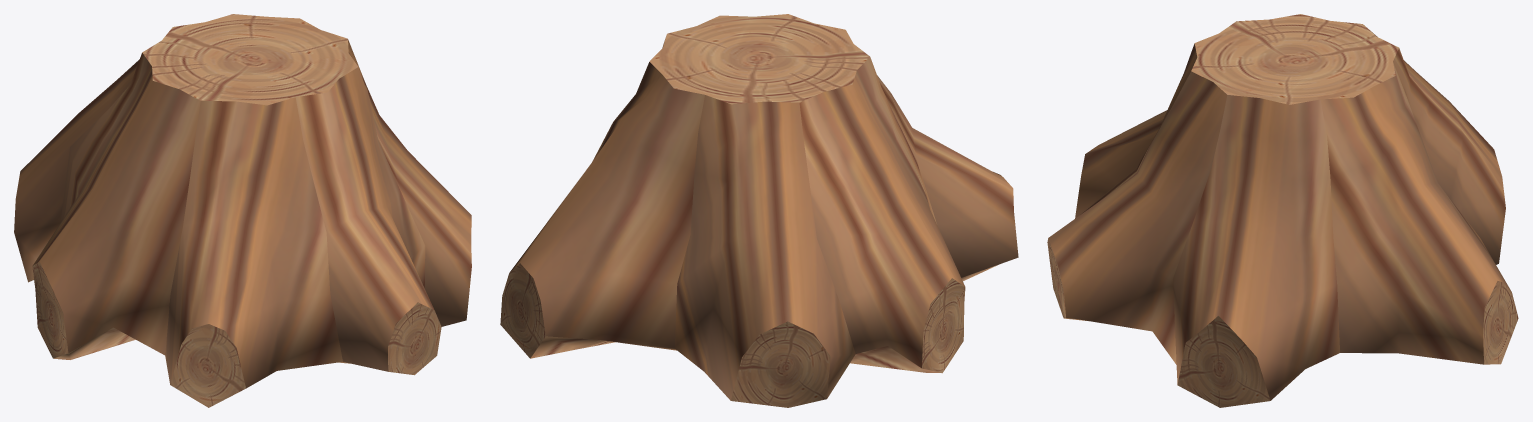
Rendered from p_mesh_hvs_pine_root01.fbx.
3 renders of one model, left to right at view 1: azimuth 30°, elevation 25°; view 2: azimuth 150°, elevation 25°; view 3: azimuth 270°, elevation 25°, orthographic. The views are drawn at different scales.
Visible parts, largest first — view 1: obj_harvests_trees_pine01_p00; view 2: obj_harvests_trees_pine01_p00; view 3: obj_harvests_trees_pine01_p00.
Part boxes in pixels (box(x1,y1,x2,y2)): obj_harvests_trees_pine01_p00: box(14, 14, 471, 407); obj_harvests_trees_pine01_p00: box(500, 14, 1018, 407); obj_harvests_trees_pine01_p00: box(1047, 14, 1518, 407).
Size of the model in its own units: 8.3 by 5.51 by 8.8.
